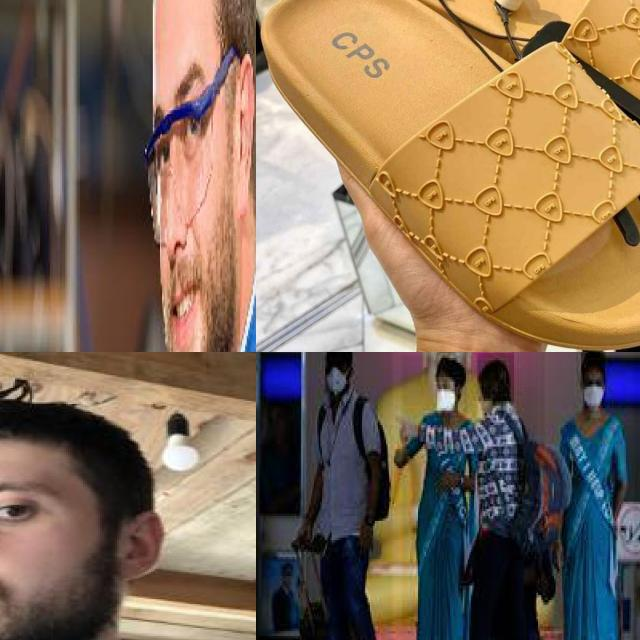No_Ear-Protection: (98, 498, 178, 587)
No_Glasses: (0, 480, 85, 552)
Sandals: (256, 0, 640, 352)
face_mask: (325, 355, 349, 394), (583, 372, 605, 408), (437, 377, 455, 411)
face_nomask: (140, 91, 223, 352), (0, 474, 85, 640), (477, 382, 498, 418)
glasses: (144, 16, 240, 270)
head_nohelmet: (0, 396, 87, 471), (477, 353, 514, 401), (435, 352, 458, 382), (581, 352, 605, 372), (327, 352, 351, 363)
person: (0, 407, 256, 640), (544, 352, 635, 640), (306, 352, 394, 640), (462, 352, 536, 640), (402, 355, 469, 640)
